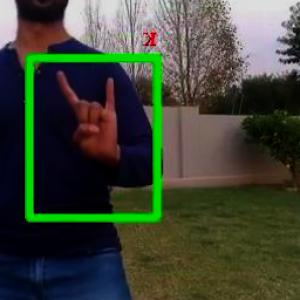takeoff-hand: (49, 62, 128, 179)
